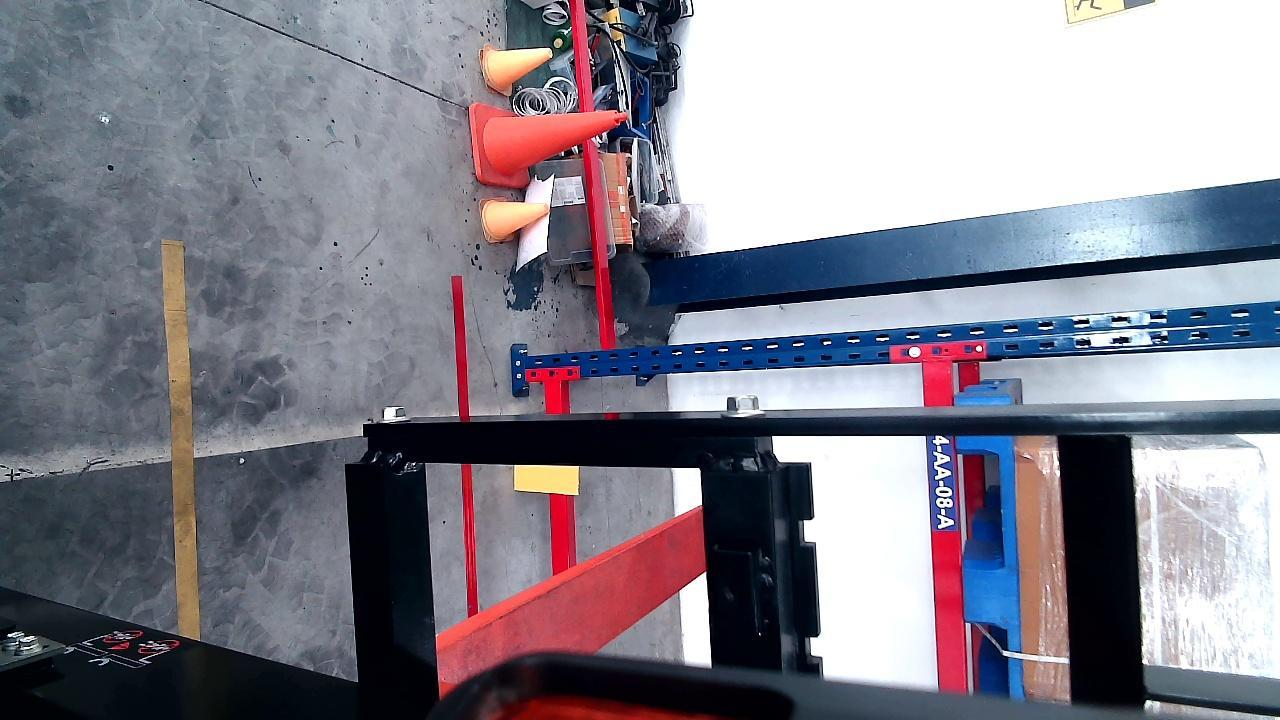red_line: (446, 275, 483, 623)
yellow_line: (168, 234, 199, 640)
